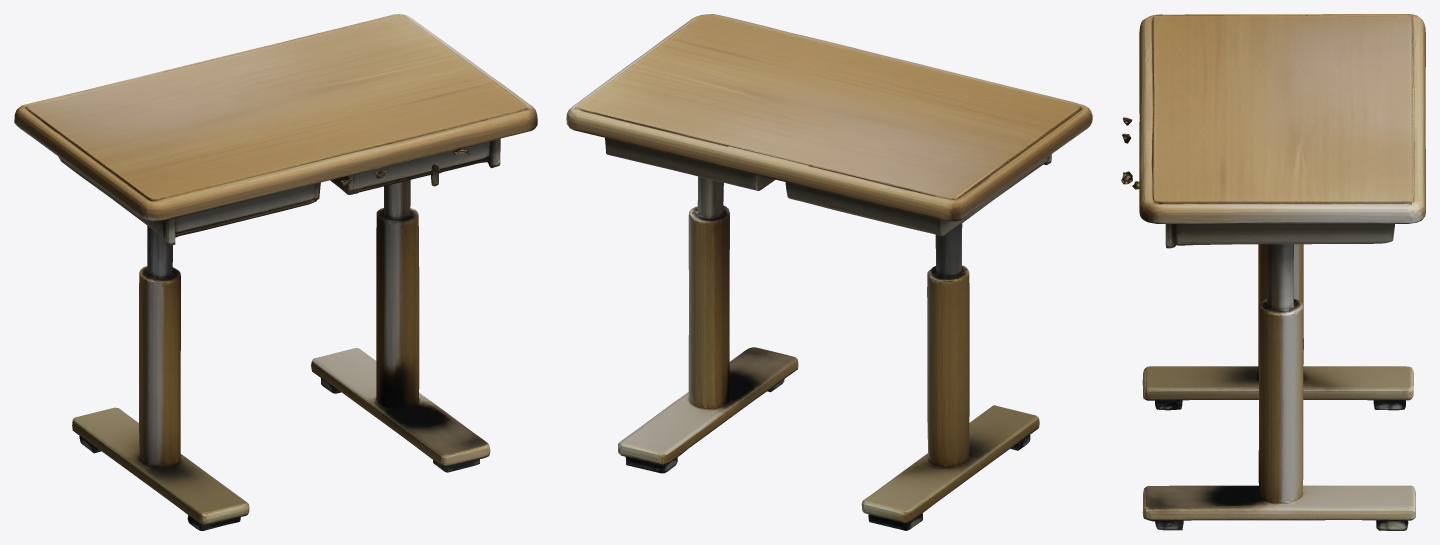
3 views of the same model, side by side, from view 1: azimuth 30°, elevation 25°; view 2: azimuth 150°, elevation 25°; view 3: azimuth 270°, elevation 25° (orthographic).
Parts seen in each view (by area): view 1: world; view 2: world; view 3: world.
Boxes of the visible parts, <box> form: world: <box>14,14,537,530</box>; world: <box>566,14,1092,530</box>; world: <box>1121,14,1425,530</box>.
Bounding box in the file's own units: 1.04 × 0.868 × 0.6792.
1 material, 1 textured.
